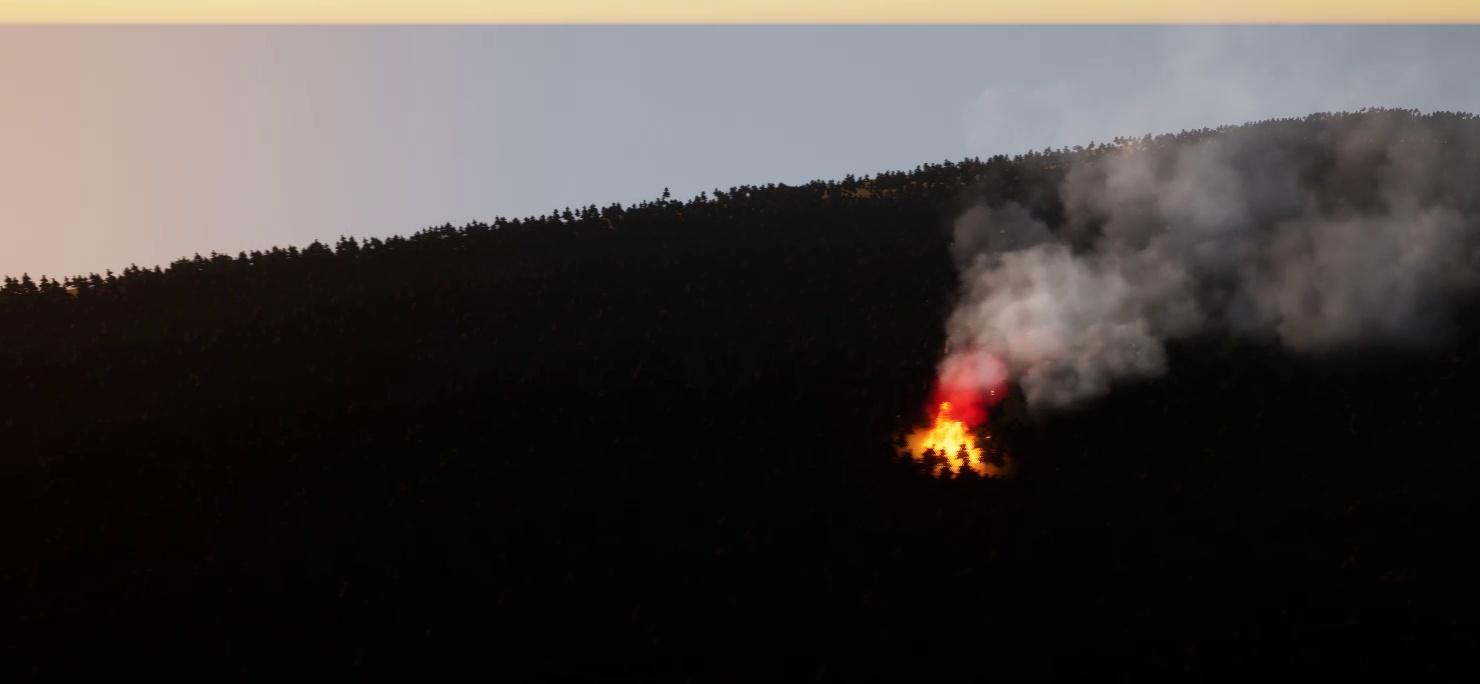fire: (918, 406, 982, 465)
smoke: (933, 50, 1479, 416)
